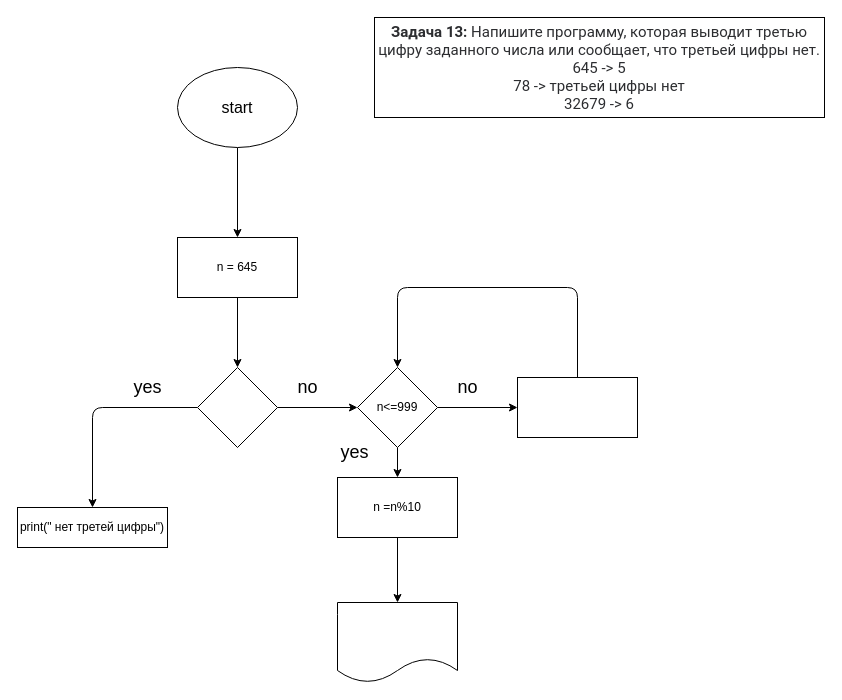
Image size: 842x700. Some labels were removed from this diagram. The shapes that lost their labels are listed below. From the top down, each one's centre as x and y in pixels, then its label:
At point (237, 407): "n<=99".
At point (577, 407): "n = n /10".
At point (397, 642): "print(n)".
